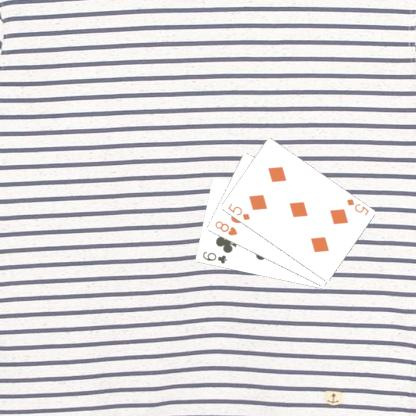5D: (343, 196, 370, 218), (225, 200, 251, 221)
6C: (200, 249, 228, 265)
8H: (212, 219, 239, 237)
